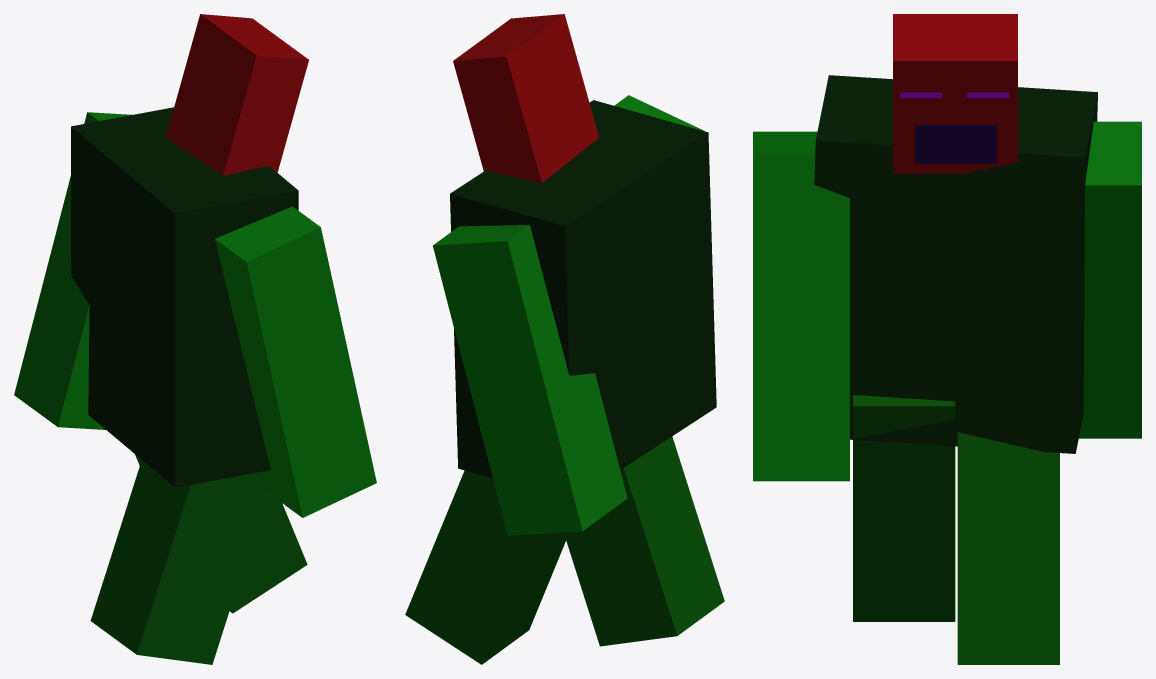
File: walk_000005.obj
3 views of the same model, side by side, from view 1: azimuth 30°, elevation 25°; view 2: azimuth 150°, elevation 25°; view 3: azimuth 270°, elevation 25° (orthographic). The views are drawn at different scales.
Parts seen in each view (by area): view 1: Cube, leg.002_Cube.006, leg.001_Cube.007, Cube.001_Cube.003, leg.003_Cube.002, leg_Cube.001; view 2: Cube, leg.003_Cube.002, leg.001_Cube.007, Cube.001_Cube.003, leg_Cube.001, leg.002_Cube.006; view 3: Cube, leg.002_Cube.006, leg_Cube.001, leg.001_Cube.007, leg.003_Cube.002, Cube.001_Cube.003, Plane.002.
Part boxes in pixels (left/top/right/bottom): Cube: left=71, top=107, right=298, bottom=487; leg.002_Cube.006: left=215, top=206, right=376, bottom=517; leg.001_Cube.007: left=90, top=460, right=267, bottom=664; Cube.001_Cube.003: left=165, top=14, right=308, bottom=175; leg.003_Cube.002: left=14, top=112, right=132, bottom=429; leg_Cube.001: left=135, top=454, right=307, bottom=613; Cube: left=450, top=100, right=716, bottom=478; leg.003_Cube.002: left=433, top=225, right=627, bottom=535; leg.001_Cube.007: left=566, top=436, right=724, bottom=646; Cube.001_Cube.003: left=453, top=14, right=598, bottom=183; leg_Cube.001: left=405, top=470, right=569, bottom=664; leg.002_Cube.006: left=614, top=95, right=704, bottom=131; Cube: left=814, top=75, right=1097, bottom=453; leg.002_Cube.006: left=753, top=131, right=849, bottom=481; leg_Cube.001: left=957, top=432, right=1059, bottom=664; leg.001_Cube.007: left=853, top=395, right=955, bottom=621; leg.003_Cube.002: left=1079, top=121, right=1141, bottom=438; Cube.001_Cube.003: left=893, top=14, right=1017, bottom=173; Plane.002: left=915, top=125, right=996, bottom=163.
Bounding box in the file's own units: 2.48 × 6.32 × 3.47.
